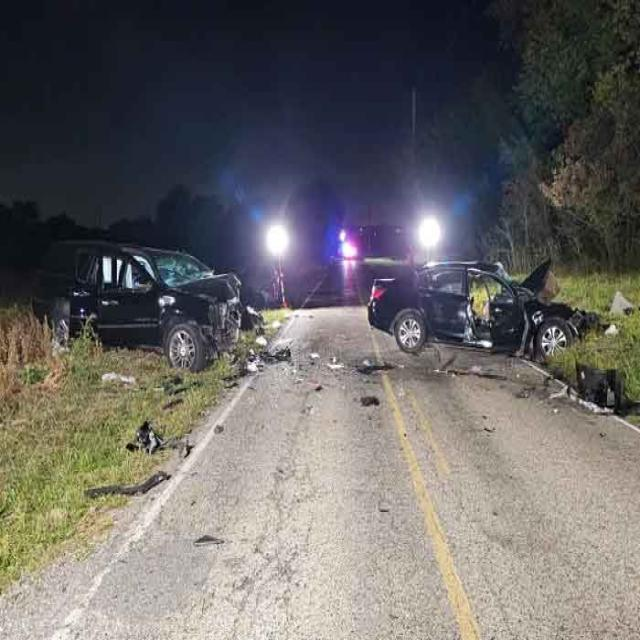accident: (35, 240, 240, 370), (368, 262, 591, 358)
